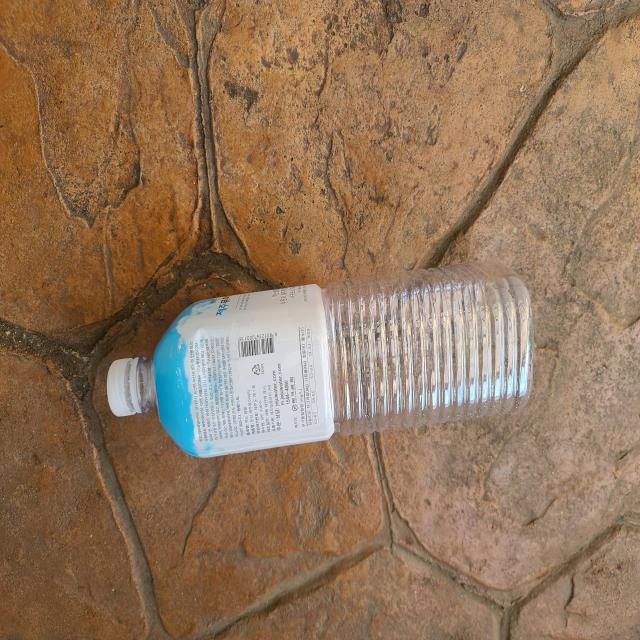plastic: (106, 262, 534, 457)
